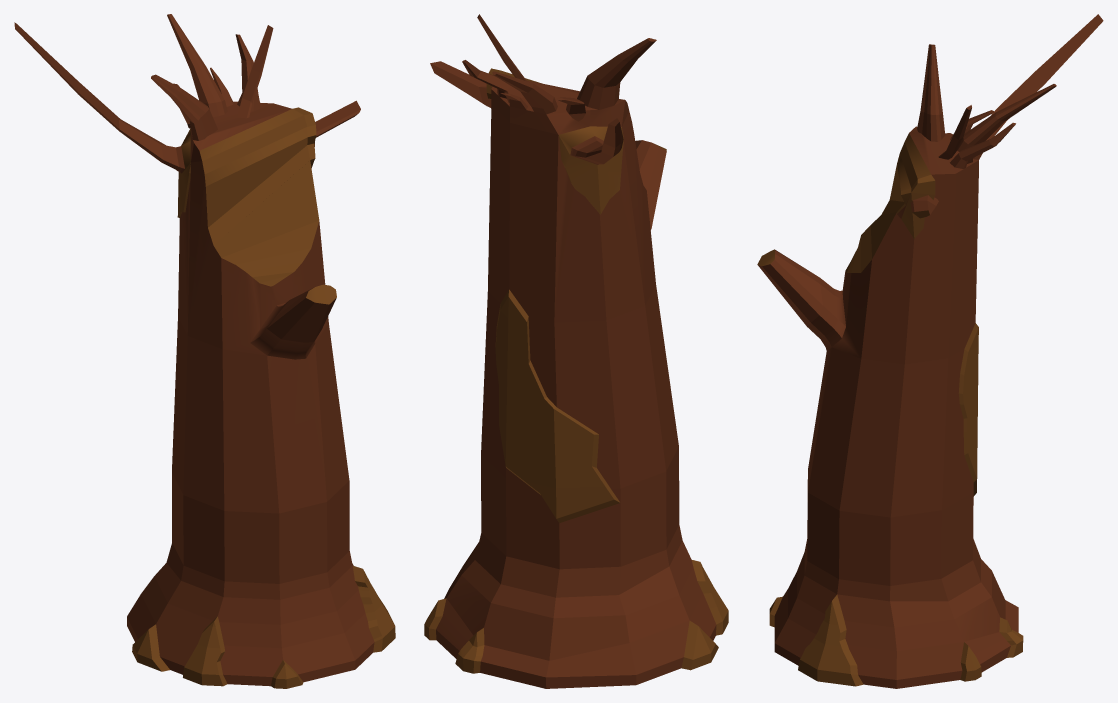
The model's file is Tree_A_Burnt.fbx.
3 views of the same model, side by side, from view 1: azimuth 30°, elevation 25°; view 2: azimuth 150°, elevation 25°; view 3: azimuth 270°, elevation 25° (orthographic). The views are drawn at different scales.
Visible parts, largest first — view 1: polySurface19; view 2: polySurface19; view 3: polySurface19.
Boxes of the visible parts, bbox=[...] form: polySurface19: bbox=[14, 14, 395, 688]; polySurface19: bbox=[424, 14, 728, 688]; polySurface19: bbox=[757, 14, 1103, 688].
Size of the model in its own units: 68.22 by 145 by 81.99.
